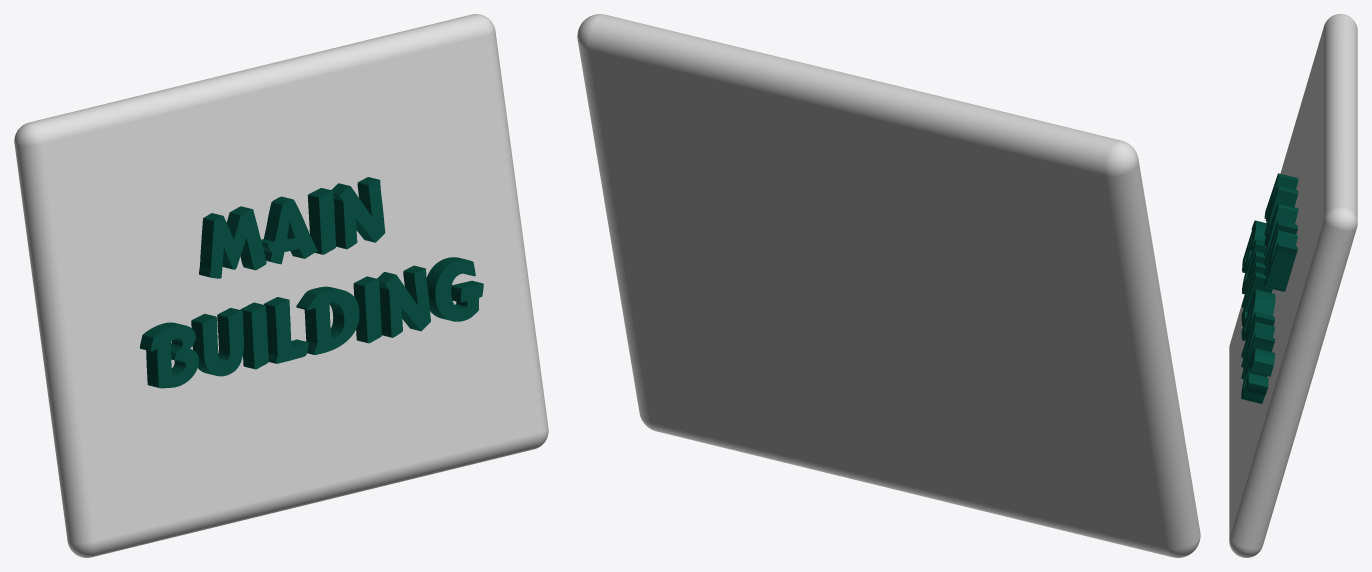
The model's file is MAINBUILDING.glb.
3 views of the same model, side by side, from view 1: azimuth 30°, elevation 25°; view 2: azimuth 150°, elevation 25°; view 3: azimuth 270°, elevation 25° (orthographic). The views are drawn at different scales.
Parts seen in each view (by area): view 1: Cube 5, Text; view 2: Cube 5; view 3: Cube 5, Text.
Part boxes in pixels (x1,y1,x2,y2): Cube 5: (14,14,548,557); Text: (140,177,483,388); Cube 5: (577,14,1200,557); Cube 5: (1229,14,1357,557); Text: (1241,173,1298,403).
Bounding box in the file's own units: 1.53 × 1.21 × 0.4034.
